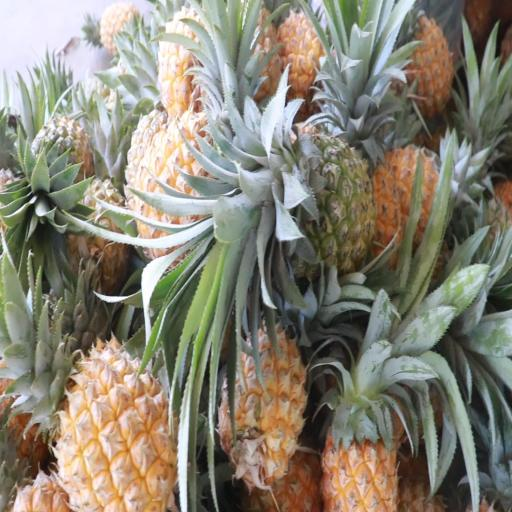Pineapple - v8 v1: (42, 327, 197, 512), (133, 98, 274, 257), (324, 328, 406, 512), (220, 318, 306, 492)
